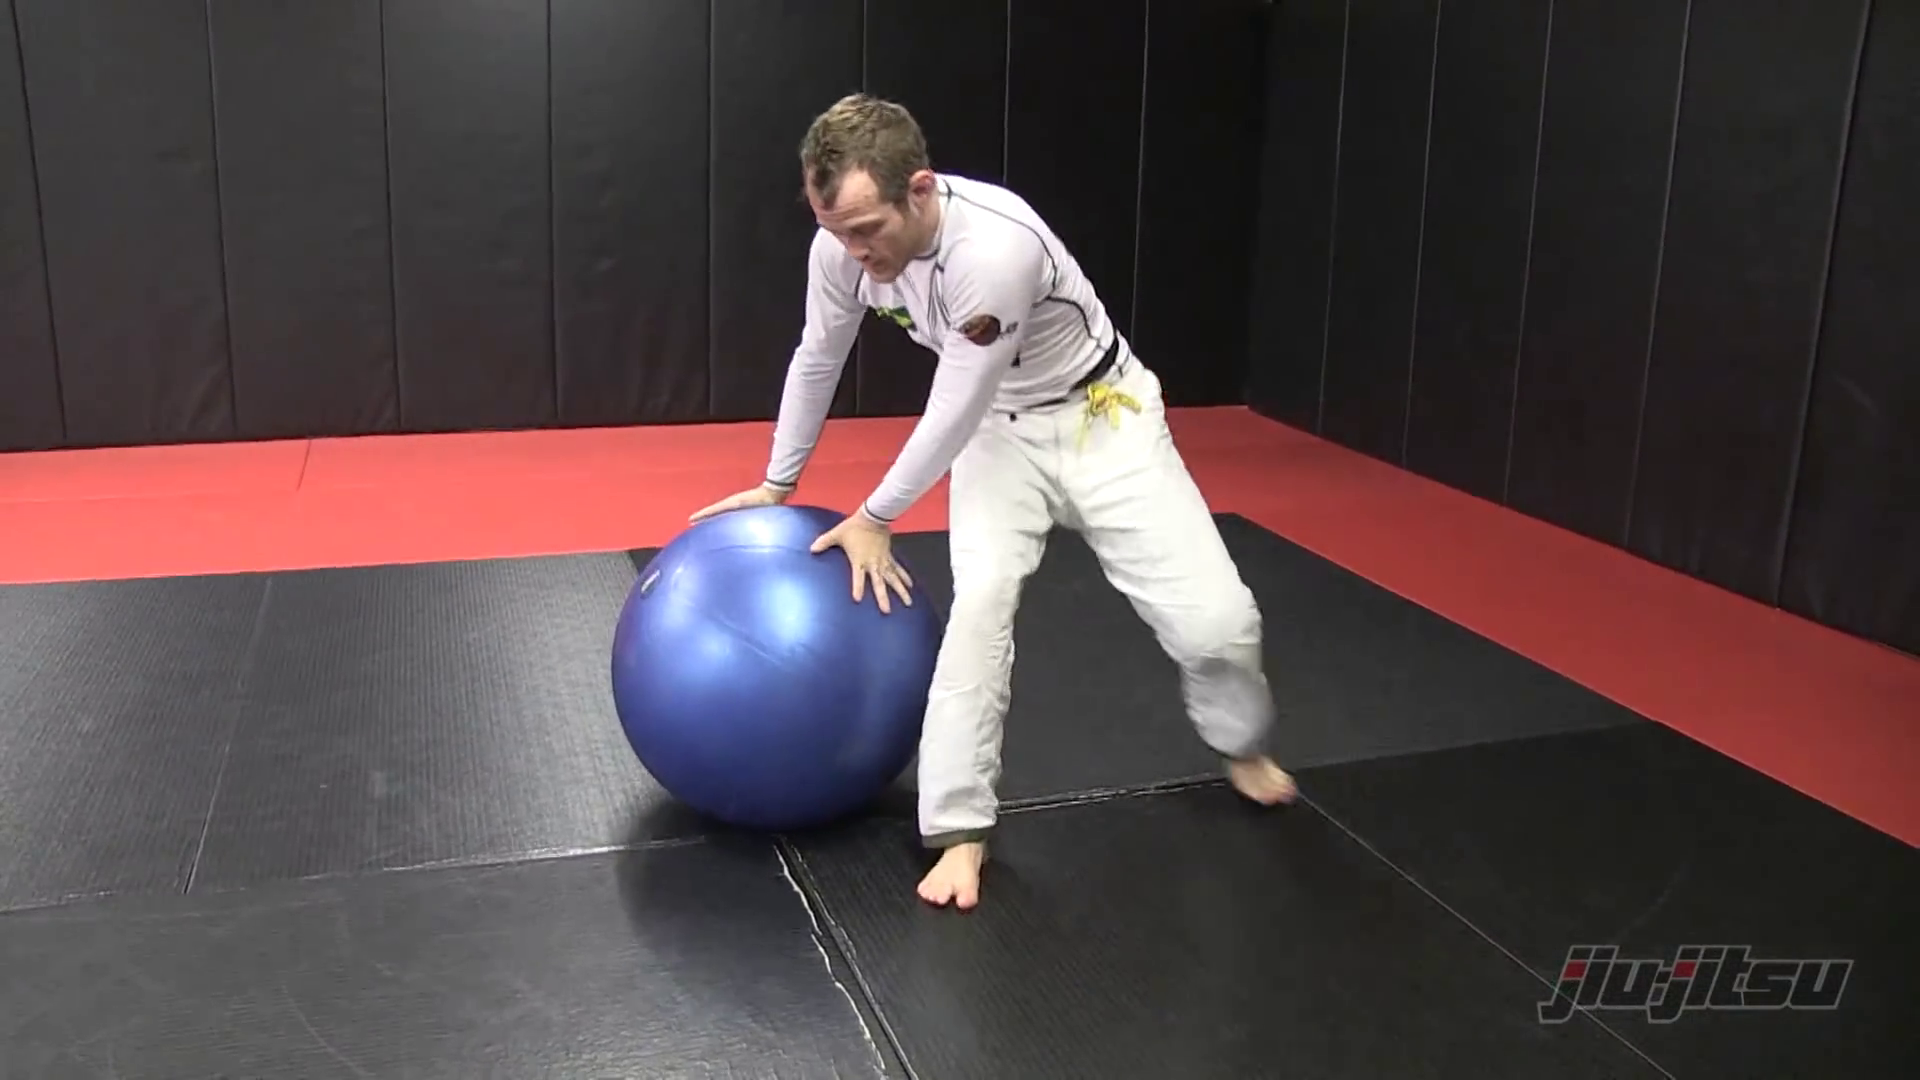yogaball: (589, 497, 963, 851)
